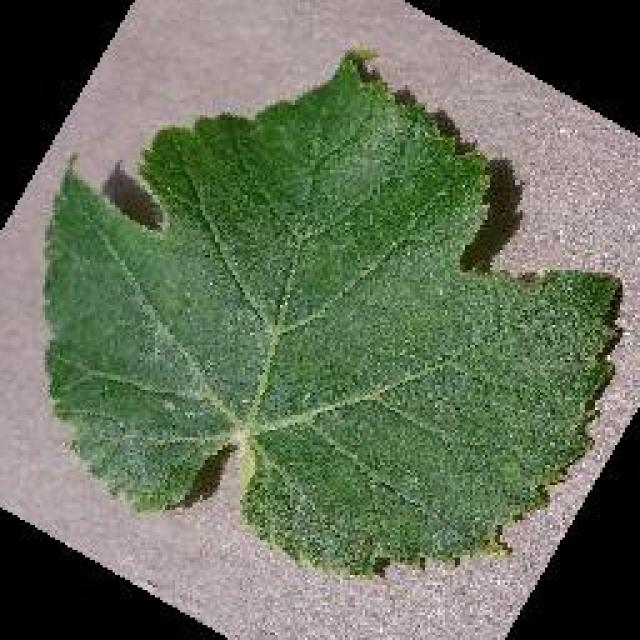Grape___healthy: (45, 55, 615, 572)
